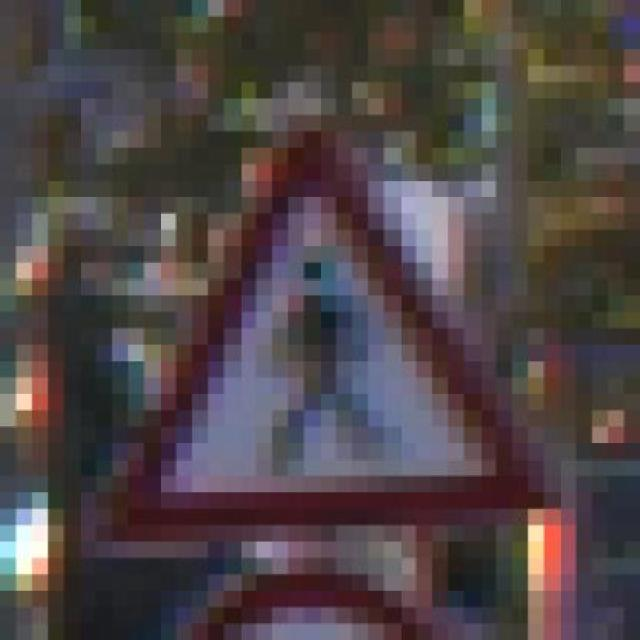Pedestrian Crossing: (95, 114, 560, 526)
